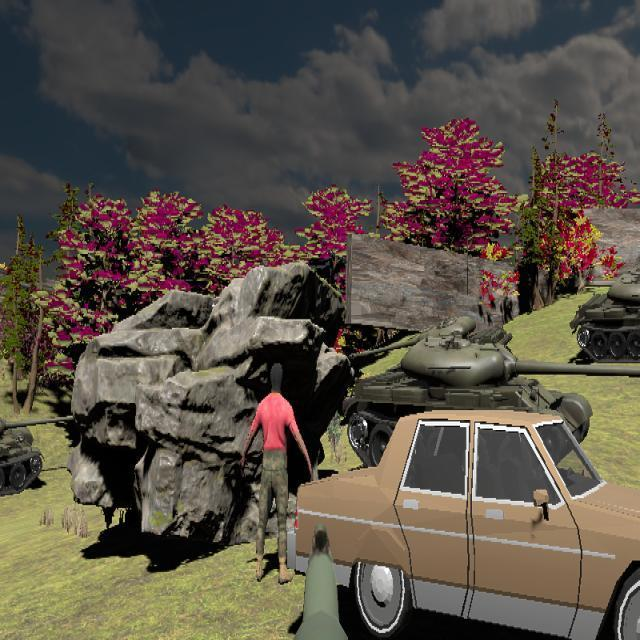Human: (241, 361, 314, 585)
Tank: (344, 333, 637, 461), (0, 410, 72, 504), (570, 275, 640, 363)
car: (275, 411, 640, 639)
